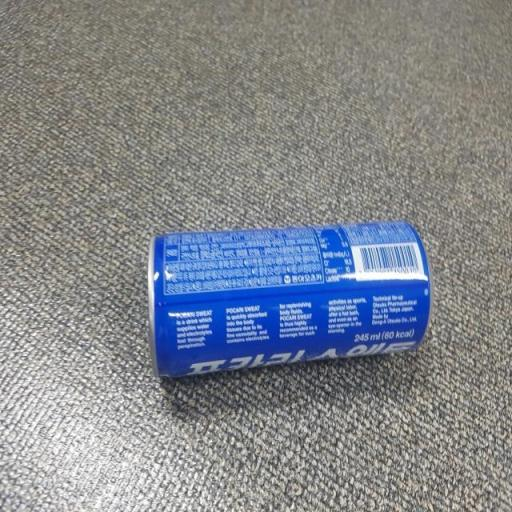metal: (114, 190, 450, 440)
